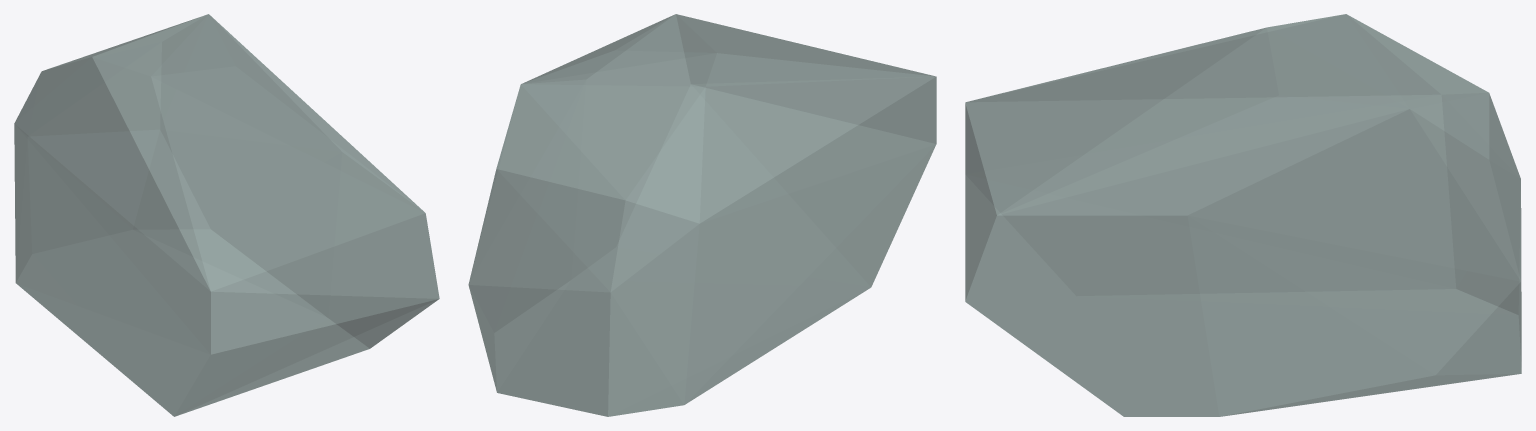
The picture shows the model from 3 angles, left to right: view 1: azimuth 30°, elevation 25°; view 2: azimuth 150°, elevation 25°; view 3: azimuth 270°, elevation 25°; orthographic projection. The views are drawn at different scales.
Visible parts, largest first — view 1: Shape_IndexedFaceSet.010_Shape_IndexedFaceSet.13082; view 2: Shape_IndexedFaceSet.010_Shape_IndexedFaceSet.13082; view 3: Shape_IndexedFaceSet.010_Shape_IndexedFaceSet.13082.
Boxes of the visible parts, bbox=[...] form: Shape_IndexedFaceSet.010_Shape_IndexedFaceSet.13082: bbox=[14, 14, 439, 416]; Shape_IndexedFaceSet.010_Shape_IndexedFaceSet.13082: bbox=[468, 14, 936, 416]; Shape_IndexedFaceSet.010_Shape_IndexedFaceSet.13082: bbox=[965, 14, 1521, 416].
Bounding box in the file's own units: 0.0431 × 0.0476 × 0.0795.
